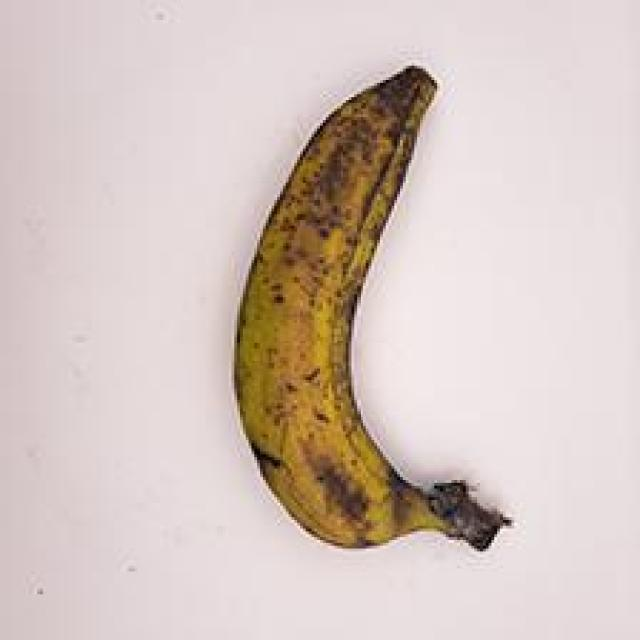Overripe: (202, 42, 540, 567)
